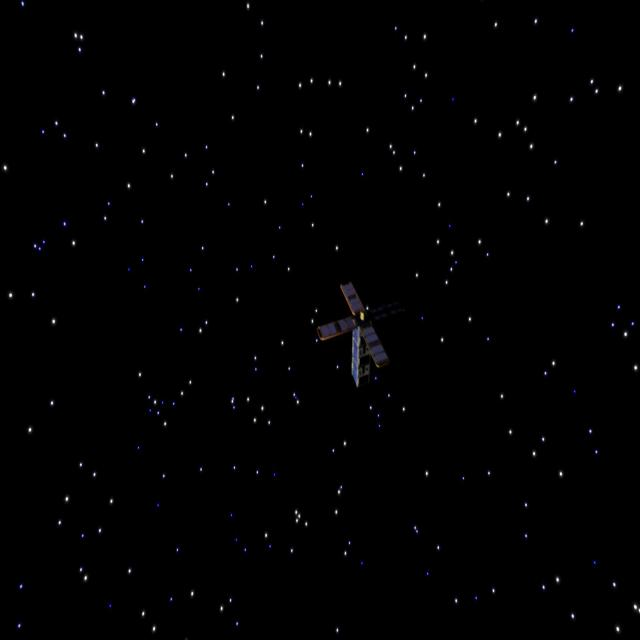satellite: (309, 286, 398, 401)
